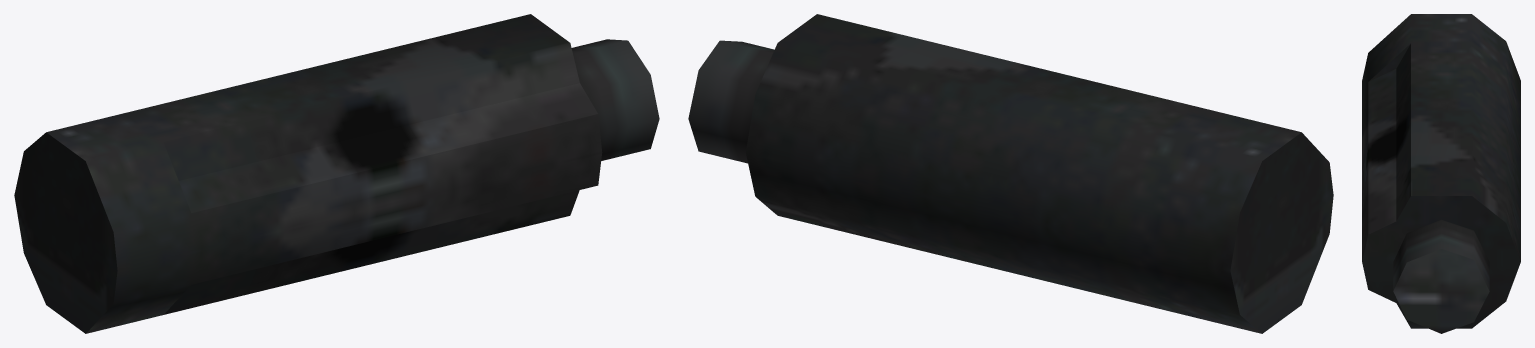
Rendered from t6_attach_sniper_svu_silencer_world_LOD0.obj.
The picture shows the model from 3 angles, left to right: view 1: azimuth 30°, elevation 25°; view 2: azimuth 150°, elevation 25°; view 3: azimuth 270°, elevation 25°; orthographic projection. The views are drawn at different scales.
Parts seen in each view (by area): view 1: mtl_t6_wpn_sniper_svu_scope, mtl_t6_wpn_sniper_svu_scope_camo2; view 2: mtl_t6_wpn_sniper_svu_scope, mtl_t6_wpn_sniper_svu_scope_camo2; view 3: mtl_t6_wpn_sniper_svu_scope, mtl_t6_wpn_sniper_svu_scope_camo2.
Part boxes in pixels (bbox=[...]): mtl_t6_wpn_sniper_svu_scope: bbox=[14, 14, 602, 333]; mtl_t6_wpn_sniper_svu_scope_camo2: bbox=[163, 39, 659, 314]; mtl_t6_wpn_sniper_svu_scope: bbox=[745, 14, 1333, 333]; mtl_t6_wpn_sniper_svu_scope_camo2: bbox=[688, 40, 774, 163]; mtl_t6_wpn_sniper_svu_scope: bbox=[1362, 14, 1520, 328]; mtl_t6_wpn_sniper_svu_scope_camo2: bbox=[1368, 44, 1489, 333].
Size of the model in its own units: 16.67 by 4.9 by 5.3.
